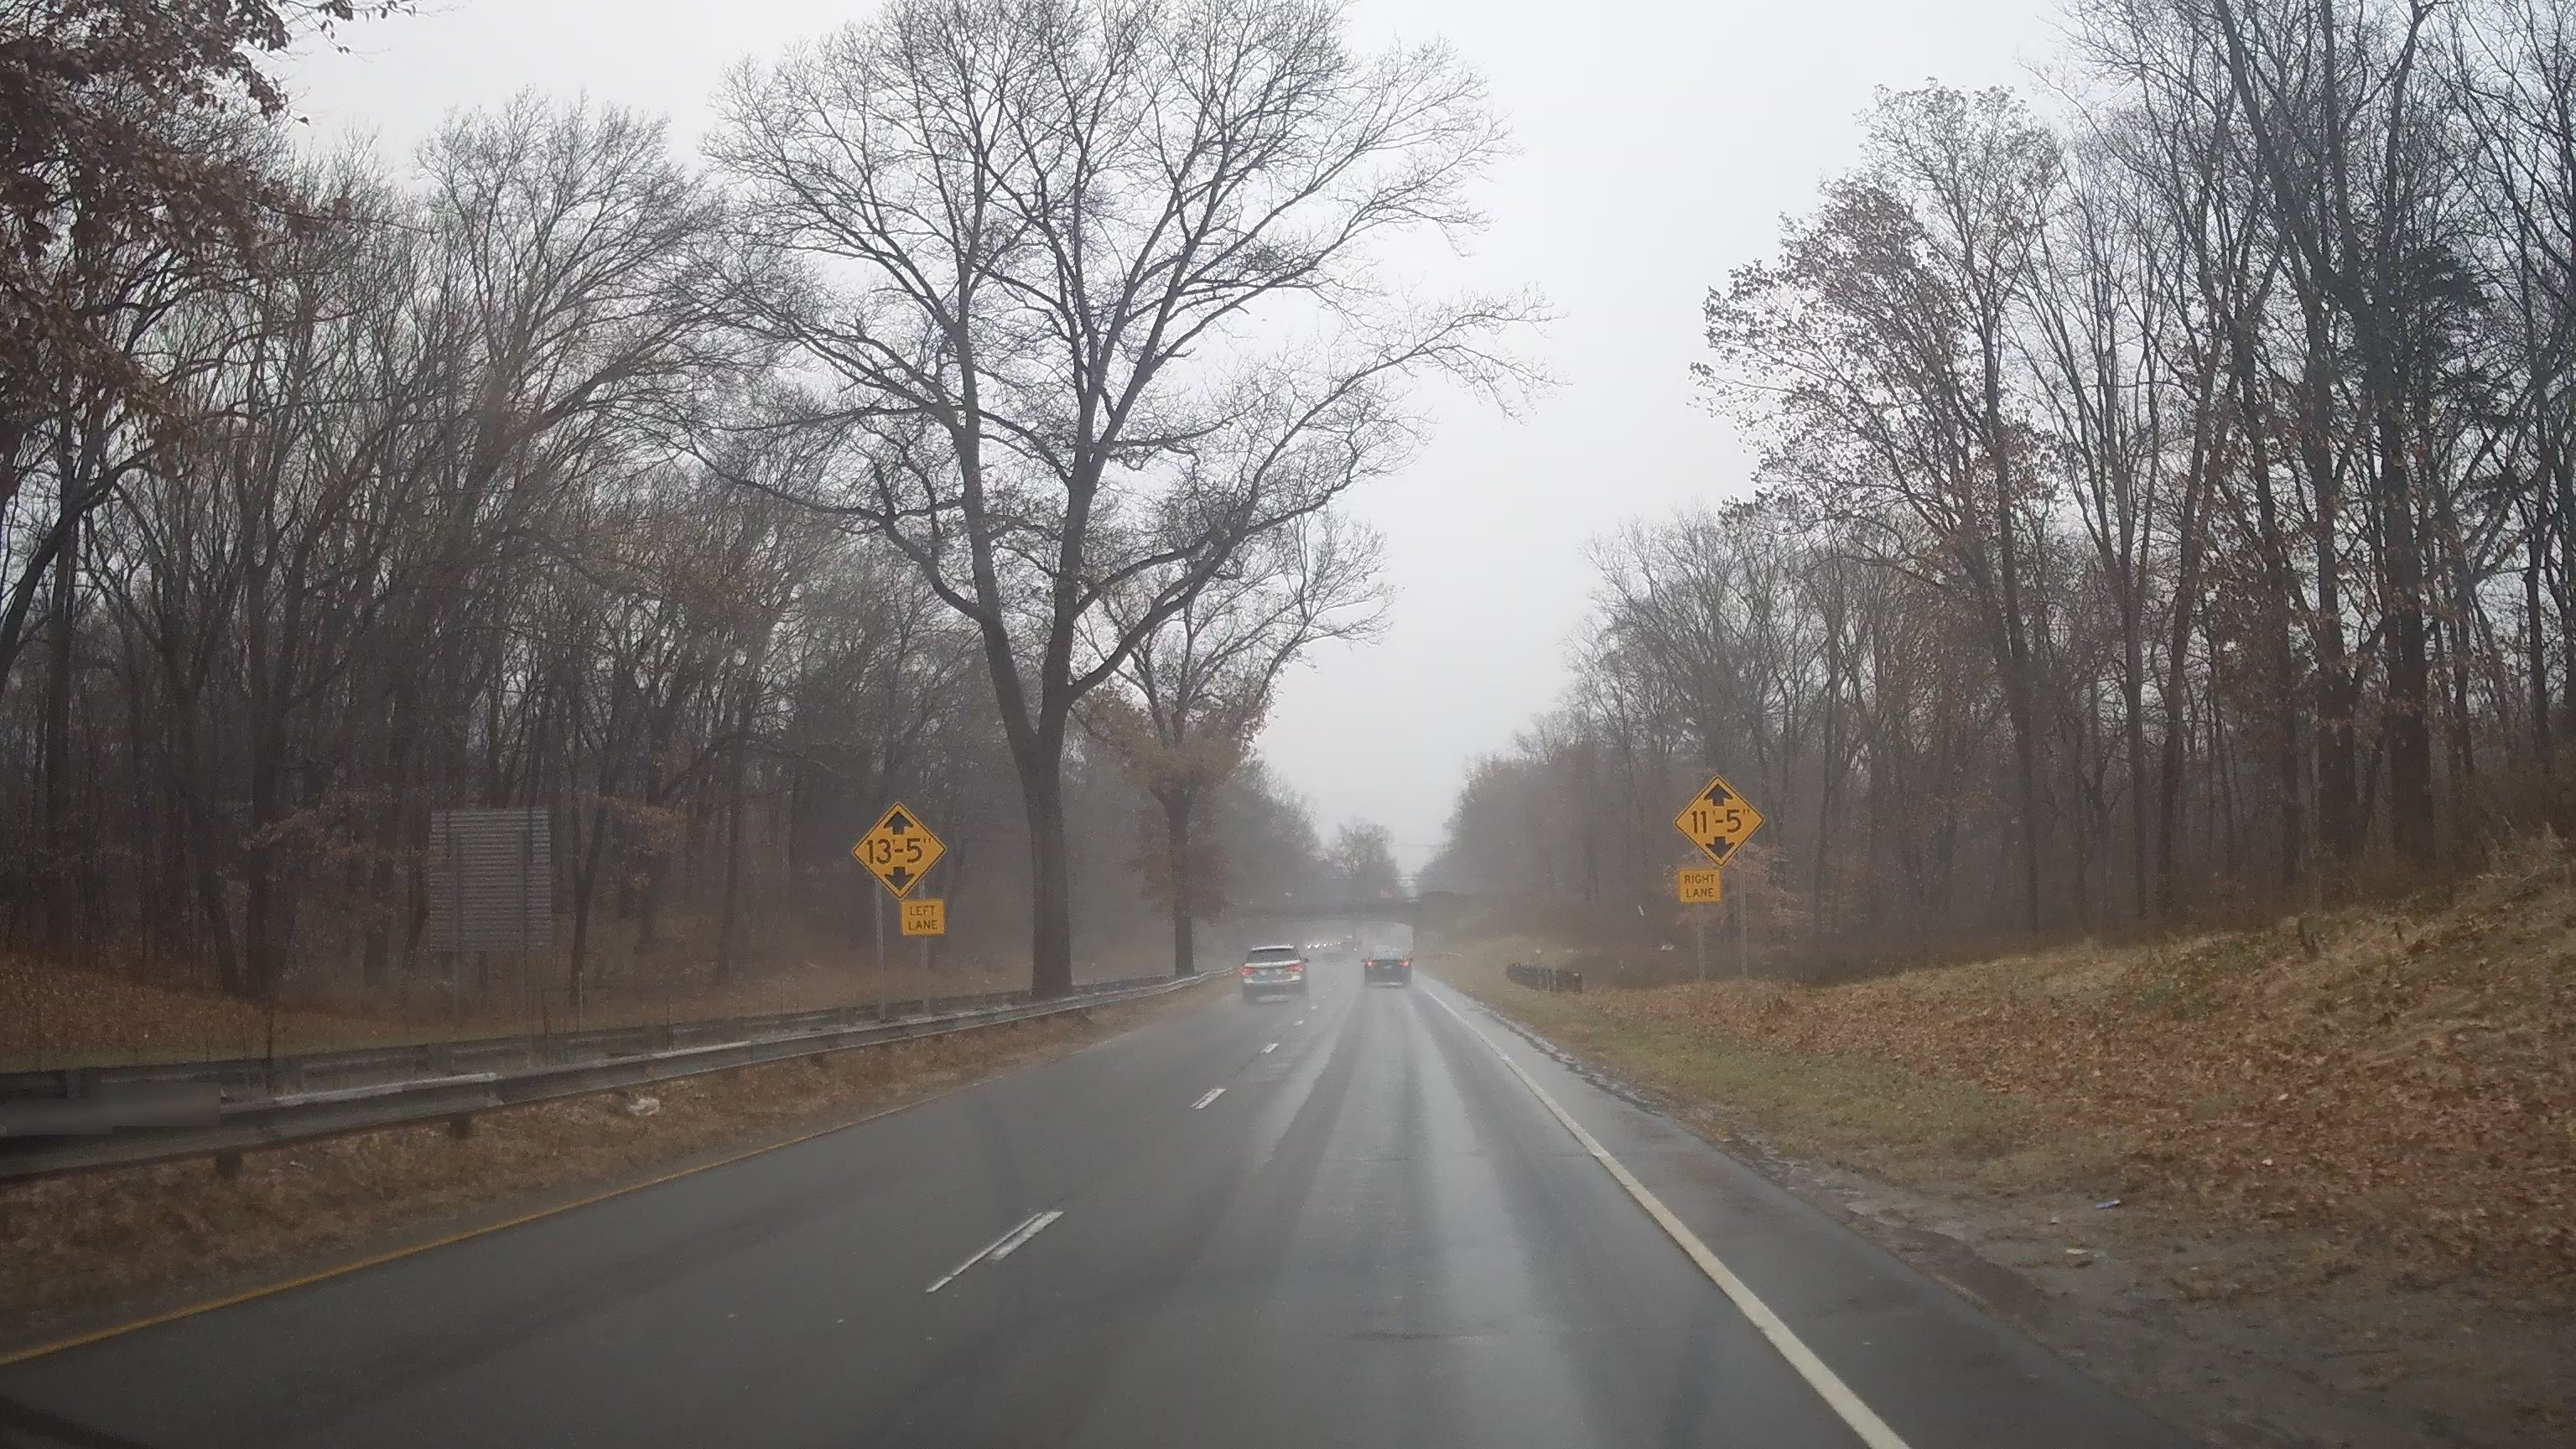low-clearance-sign: (851, 801, 948, 901), (1674, 775, 1767, 869)
